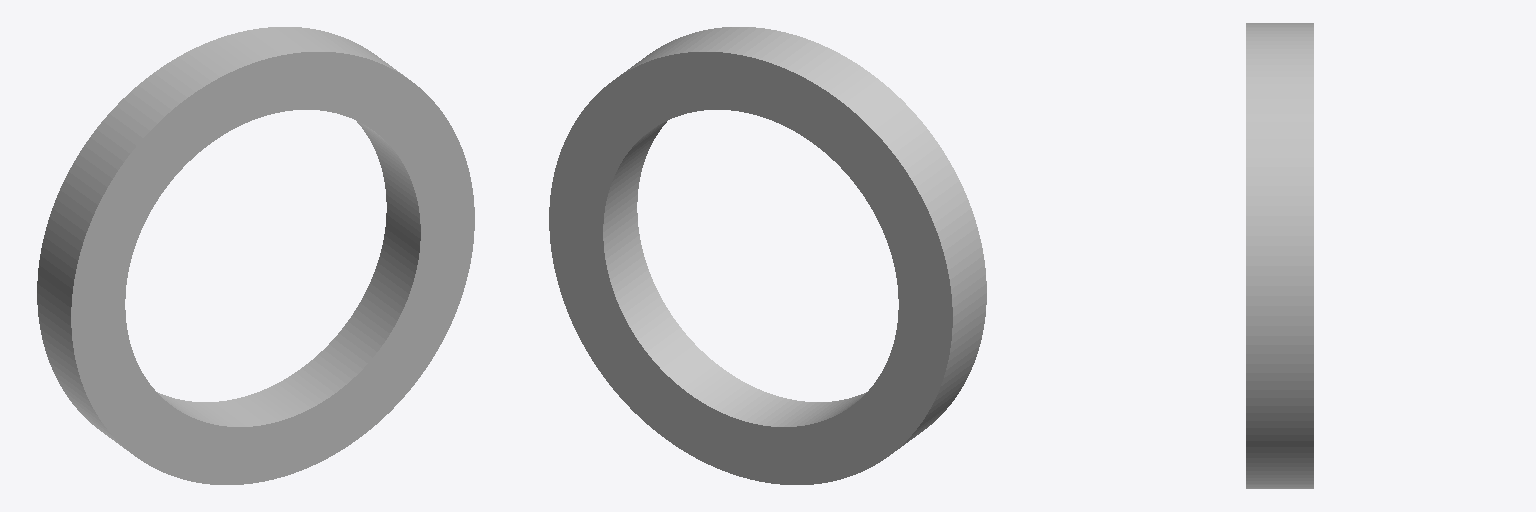
The model's file is Finger Unified Assembly - Part 1 (4).obj.
3 renders of one model, left to right at view 1: azimuth 30°, elevation 25°; view 2: azimuth 150°, elevation 25°; view 3: azimuth 270°, elevation 25°, orthographic.
Visible parts, largest first — view 1: mesh1, mesh2, mesh0; view 2: mesh3, mesh2, mesh0; view 3: mesh2.
Part boxes in pixels (bbox=[...]): mesh1: bbox=[71, 52, 474, 484]; mesh2: bbox=[37, 27, 406, 450]; mesh0: bbox=[157, 121, 420, 426]; mesh3: bbox=[549, 52, 952, 484]; mesh2: bbox=[617, 27, 986, 450]; mesh0: bbox=[603, 121, 866, 426]; mesh2: bbox=[1246, 23, 1313, 488].
Bounding box in the file's own units: 0.0082 × 0.0082 × 0.0012.